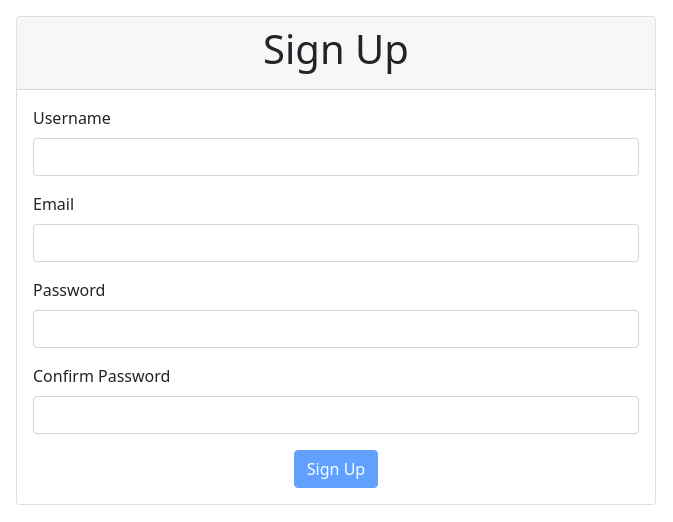
Test: Sign Up Page › Interactions › displays spinner while api request in progress
Type "user1" into the field labelled "Username".
click(336, 157); type("user1")  # box [33,138,639,176]
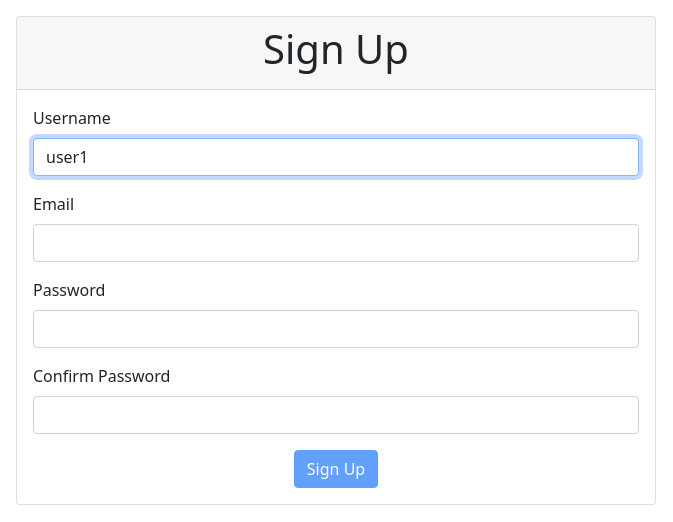
Type "user1@test.com" into the field labelled "Email".
click(336, 243); type("user1@test.com")  # box [33,224,639,262]
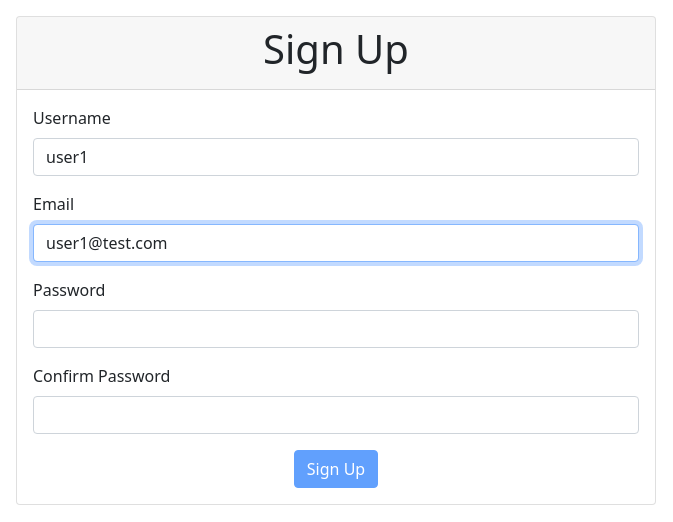
Type "P" into the password field labelled "Password".
click(336, 329); type("P")  # box [33,310,639,348]
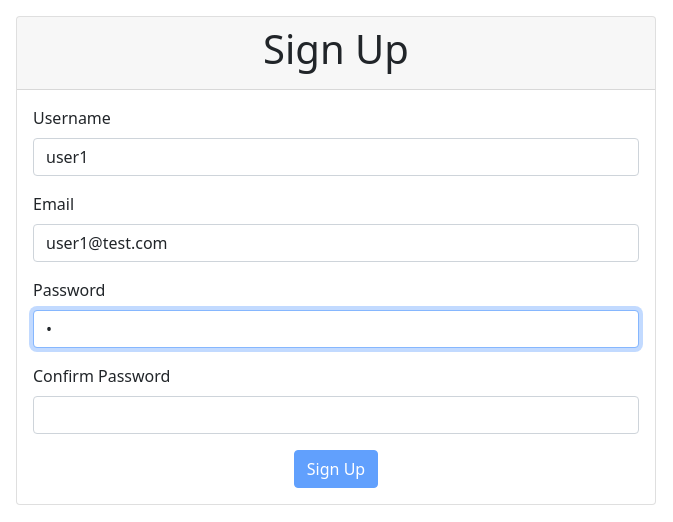
Type "P" into the password field labelled "Confirm Password".
click(336, 415); type("P")  # box [33,396,639,434]
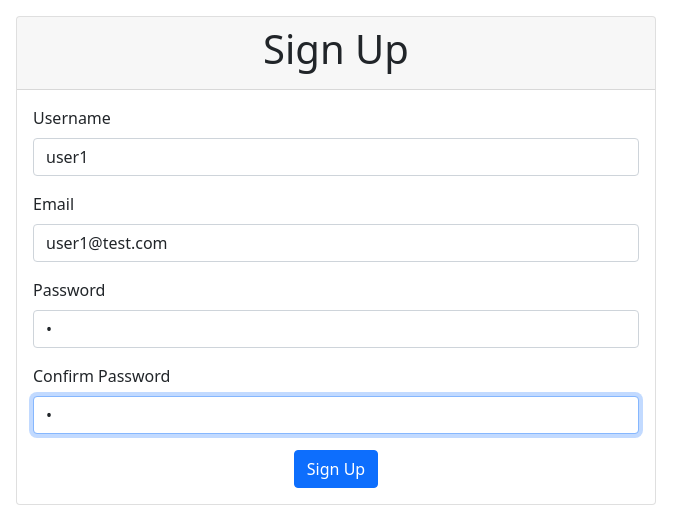
Click the button "Sign Up".
click(336, 469)  # box [294,450,378,488]
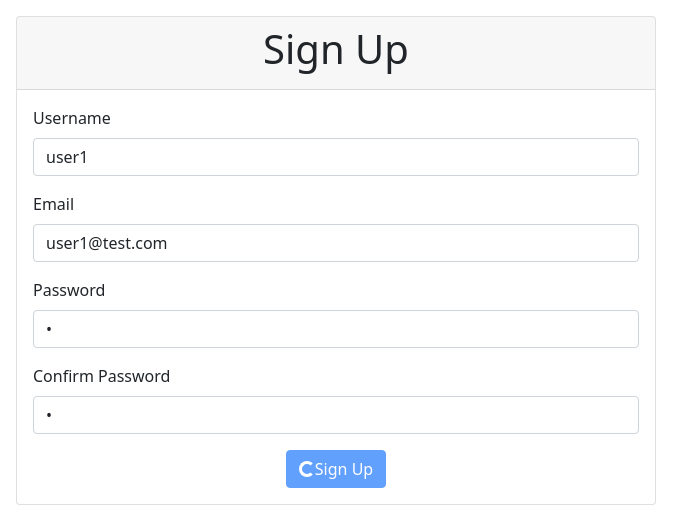
Result: the message is shown at [299,461,315,477]
